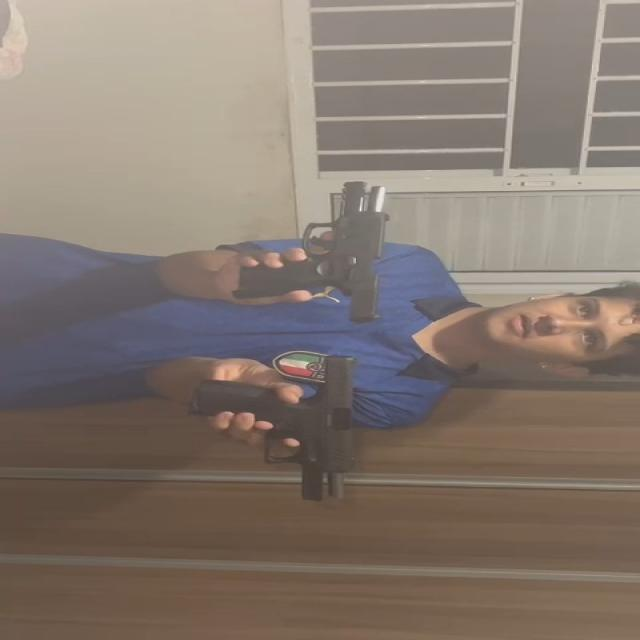gun: (197, 351, 359, 504), (226, 179, 390, 318)
